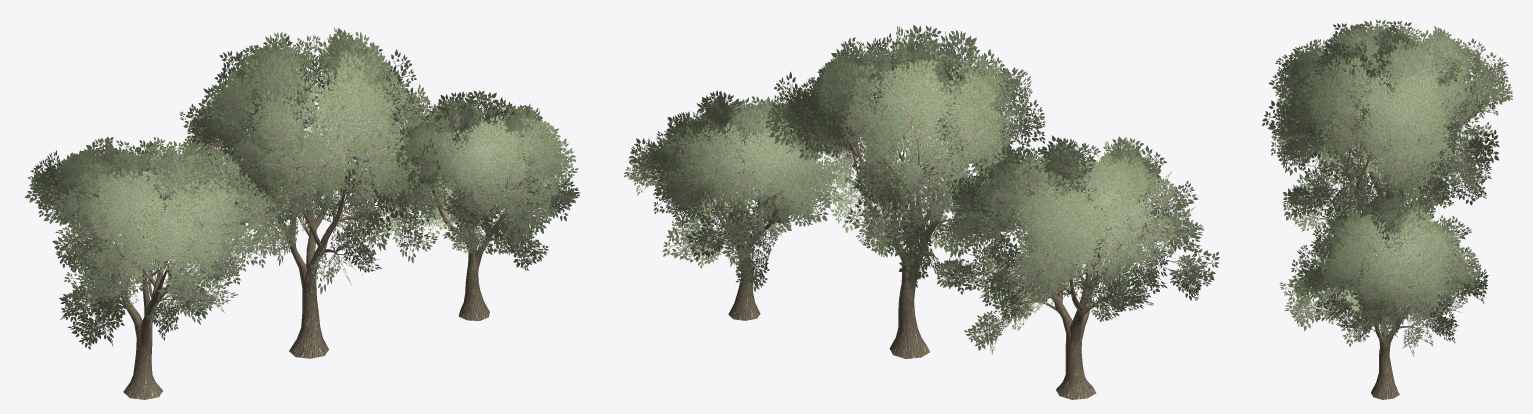
The model's file is V2_Thick_Trees_1A1.fbx.
The picture shows the model from 3 angles, left to right: view 1: azimuth 30°, elevation 25°; view 2: azimuth 150°, elevation 25°; view 3: azimuth 270°, elevation 25°; orthographic projection. The views are drawn at different scales.
Parts seen in each view (by area): view 1: Thick_Tree_1A2, Thick_Tree_1A1, Thick_Tree_1A3; view 2: Thick_Tree_1A2, Thick_Tree_1A1, Thick_Tree_1A3; view 3: Thick_Tree_1A2, Thick_Tree_1A3, Thick_Tree_1A1.
Boxes of the visible parts, x1,y1,x2,y2 form: Thick_Tree_1A2: (179, 28, 451, 358); Thick_Tree_1A1: (24, 137, 289, 399); Thick_Tree_1A3: (361, 90, 580, 320); Thick_Tree_1A2: (765, 25, 1045, 358); Thick_Tree_1A1: (935, 135, 1219, 399); Thick_Tree_1A3: (624, 90, 842, 320); Thick_Tree_1A2: (1262, 25, 1499, 325); Thick_Tree_1A3: (1279, 194, 1488, 399); Thick_Tree_1A1: (1272, 19, 1512, 209).
Size of what is drawn, in the model's own units: 6654 by 3711 by 3100.
